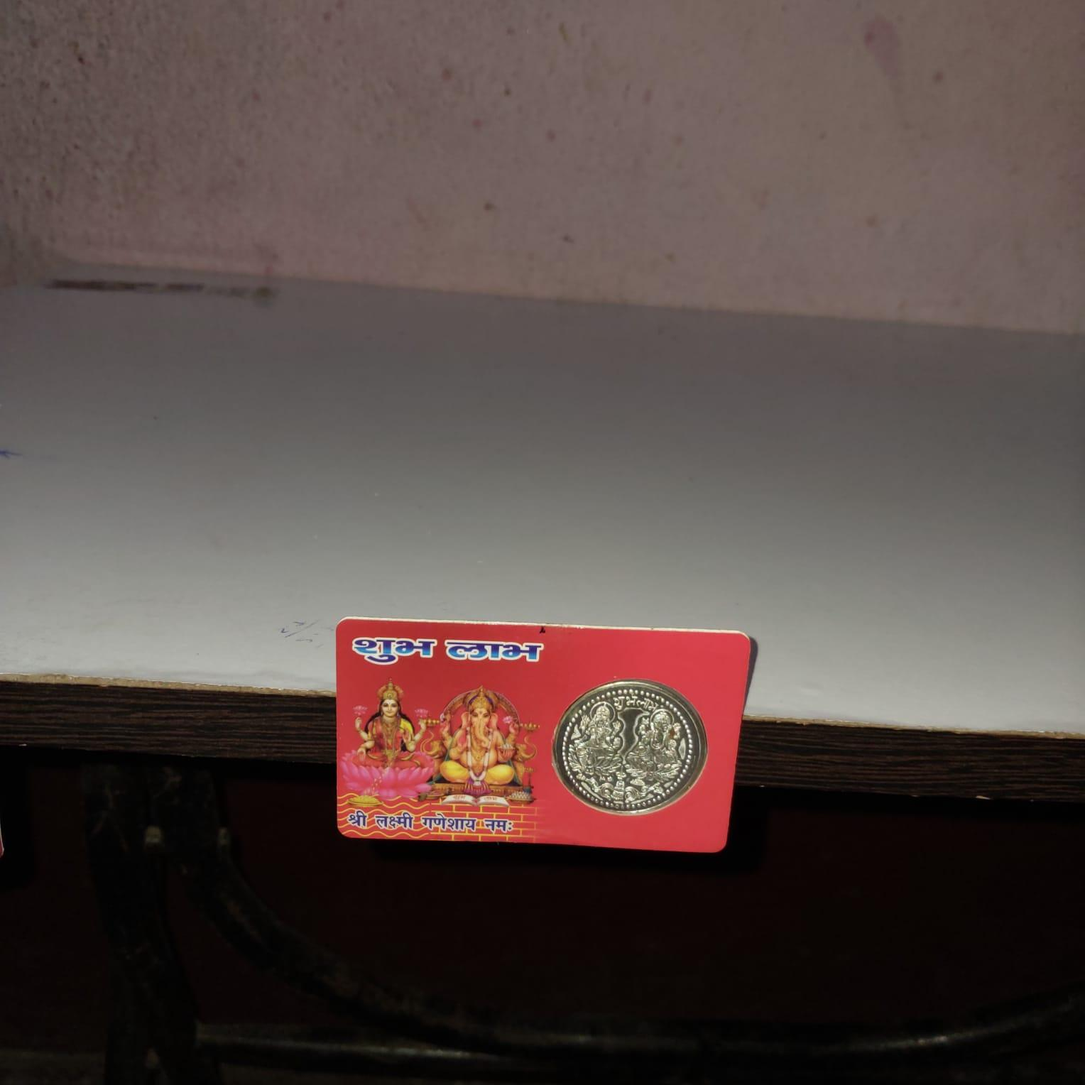blessing_card: (334, 618, 760, 857)
